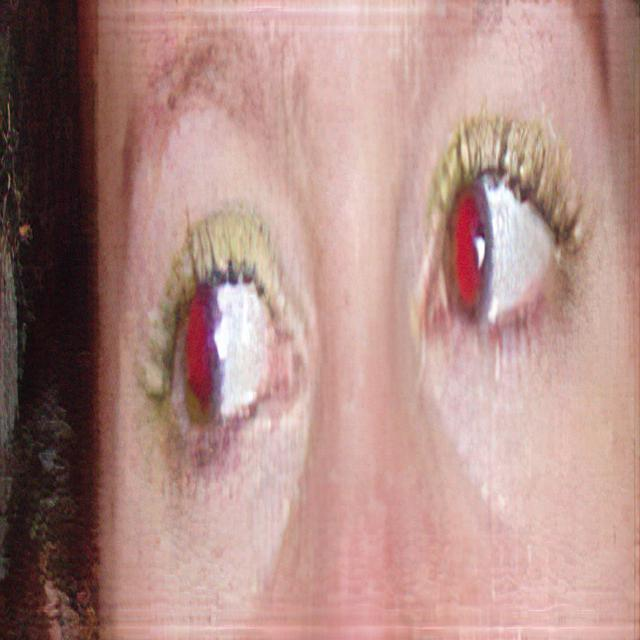reflexo-normal: (422, 137, 564, 371), (156, 236, 288, 454)
